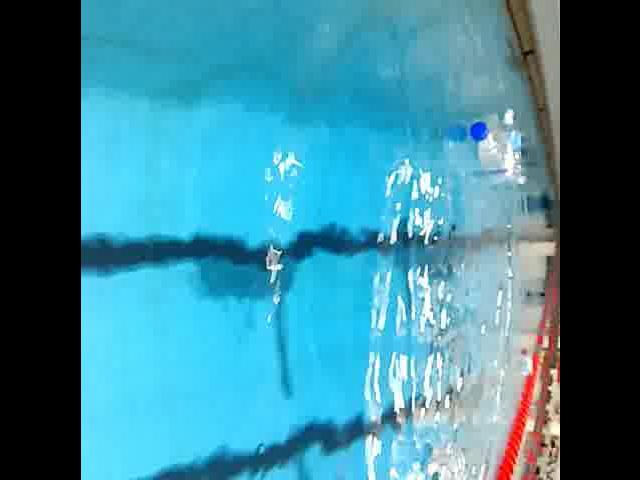Bottle: (465, 115, 515, 186), (498, 104, 528, 191), (424, 439, 468, 480), (516, 342, 538, 378)
